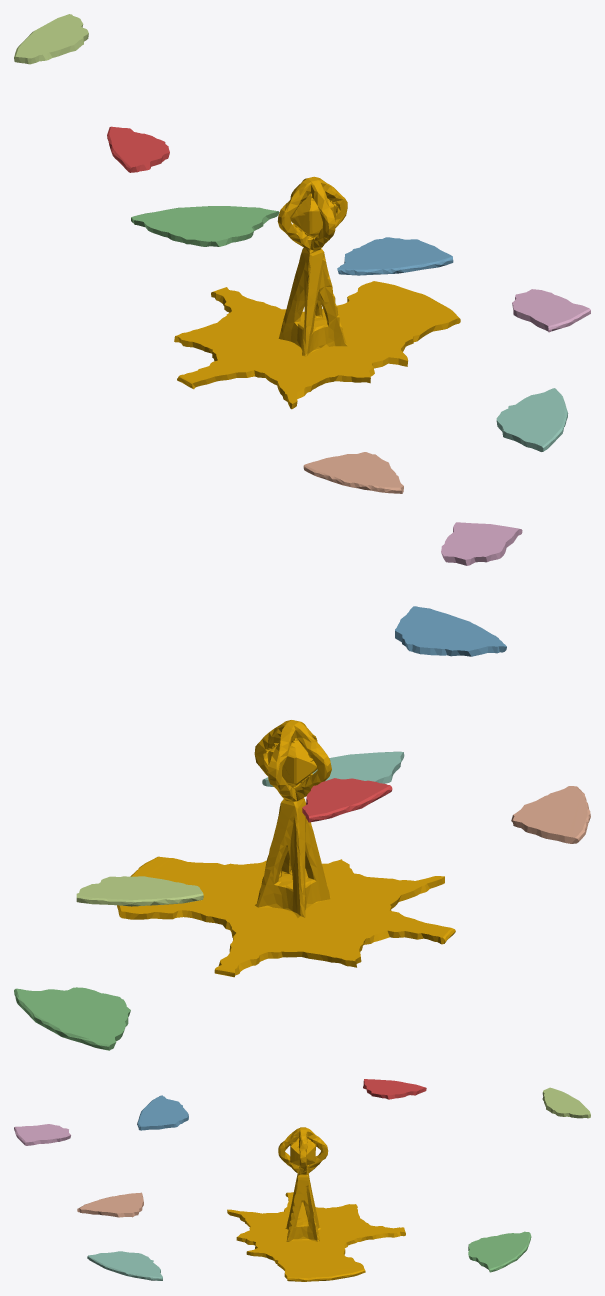
Rendered from mode_10_8pcs_transformed.glb.
3 renders of one model, top to bottom at view 1: azimuth 30°, elevation 25°; view 2: azimuth 150°, elevation 25°; view 3: azimuth 270°, elevation 25°, orthographic. The views are drawn at different scales.
Visible parts, largest first — view 1: piece_0.obj, piece_3.obj, piece_2.obj, piece_4.obj, piece_7.obj, piece_5.obj, piece_6.obj, piece_1.obj; view 2: piece_0.obj, piece_3.obj, piece_2.obj, piece_7.obj, piece_5.obj, piece_1.obj, piece_6.obj, piece_4.obj; view 3: piece_0.obj, piece_3.obj, piece_4.obj, piece_2.obj, piece_7.obj, piece_5.obj, piece_6.obj, piece_1.obj.
Part boxes in pixels (x1,y1,x2,y2): piece_0.obj: [174, 176, 460, 409]; piece_3.obj: [131, 206, 279, 246]; piece_2.obj: [337, 237, 453, 275]; piece_4.obj: [496, 388, 568, 451]; piece_7.obj: [303, 452, 403, 493]; piece_5.obj: [14, 14, 88, 64]; piece_6.obj: [512, 289, 590, 332]; piece_1.obj: [107, 126, 169, 172]; piece_0.obj: [117, 720, 455, 977]; piece_3.obj: [14, 987, 130, 1050]; piece_2.obj: [395, 606, 506, 656]; piece_7.obj: [511, 786, 590, 843]; piece_5.obj: [76, 876, 203, 906]; piece_1.obj: [302, 778, 392, 822]; piece_6.obj: [441, 522, 522, 565]; piece_4.obj: [262, 751, 404, 786]; piece_0.obj: [227, 1127, 405, 1281]; piece_3.obj: [468, 1231, 531, 1272]; piece_4.obj: [87, 1251, 162, 1280]; piece_2.obj: [137, 1095, 188, 1130]; piece_7.obj: [77, 1192, 143, 1217]; piece_5.obj: [542, 1087, 590, 1118]; piece_6.obj: [14, 1124, 70, 1145]; piece_1.obj: [363, 1079, 426, 1099].
Bounding box in the file's own units: 0.9998 × 0.6198 × 2.78.
